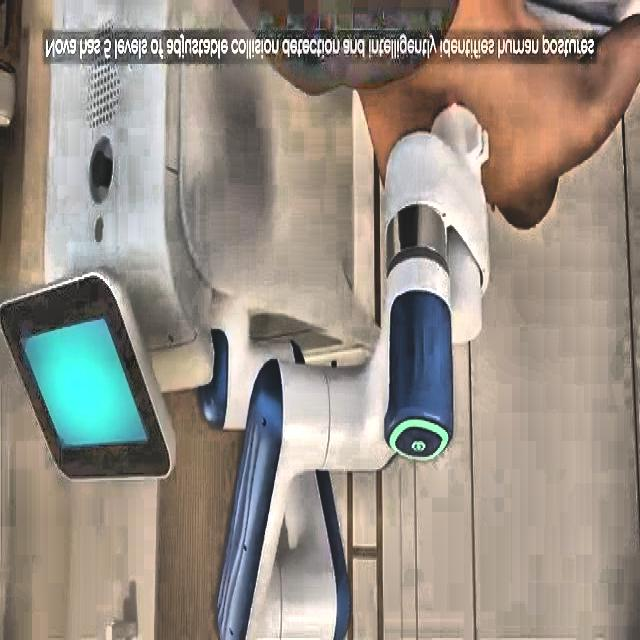robot: (0, 2, 492, 640), (206, 103, 492, 640)
